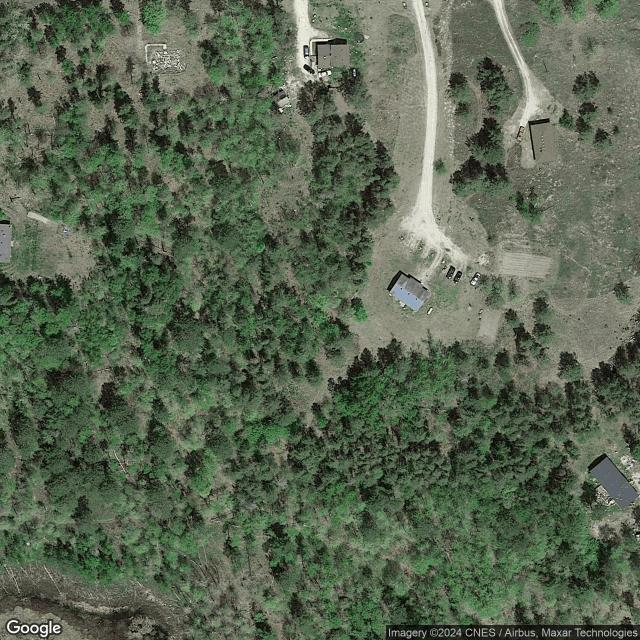Propane: (425, 306, 434, 316), (352, 66, 357, 78)
